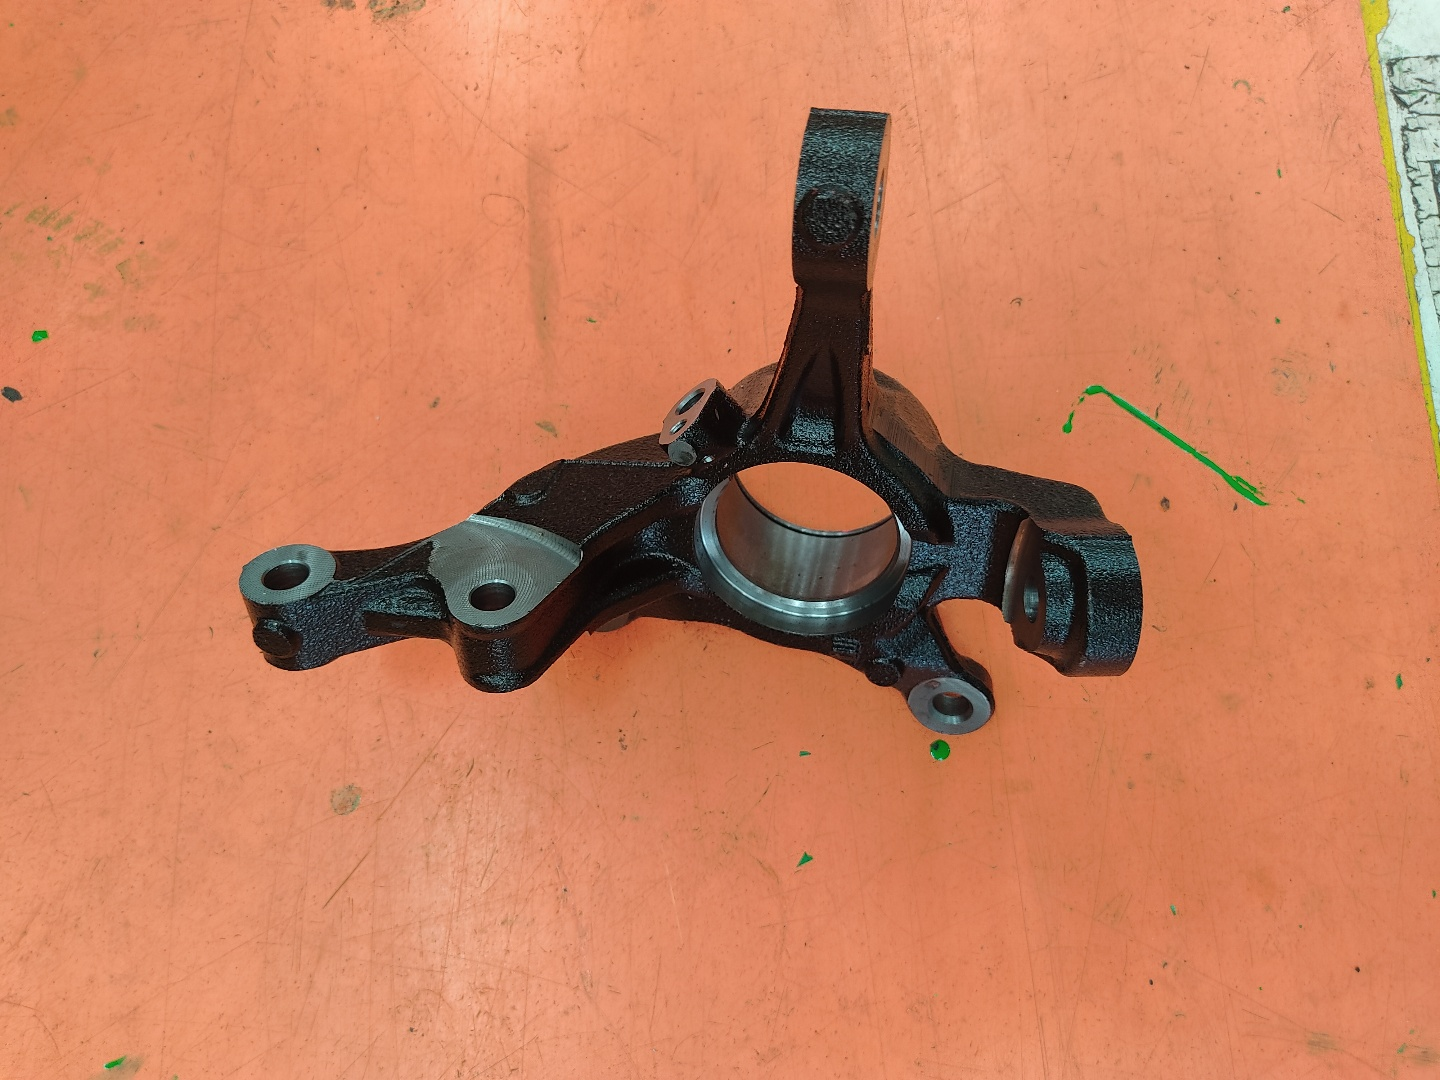abs-rh: (230, 92, 1161, 766)
